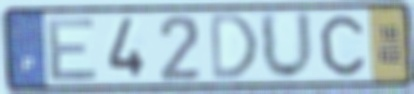2: (156, 12, 205, 83)
4: (105, 15, 149, 82)
C: (317, 13, 368, 78)
D: (208, 10, 260, 84)
E: (46, 15, 101, 84)
U: (257, 9, 318, 83)
